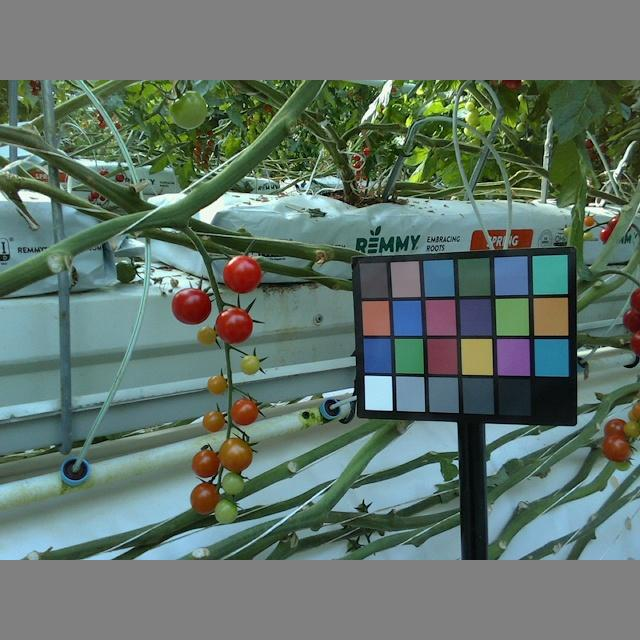green: (173, 92, 208, 129), (214, 495, 237, 525), (218, 473, 246, 494)
pink: (218, 436, 254, 472), (191, 482, 221, 516), (192, 448, 221, 478), (601, 433, 632, 461), (231, 398, 259, 426), (201, 409, 225, 433), (206, 374, 228, 395), (196, 326, 218, 346), (239, 357, 260, 374)
red: (224, 254, 263, 292), (173, 286, 212, 324), (215, 308, 254, 344)
